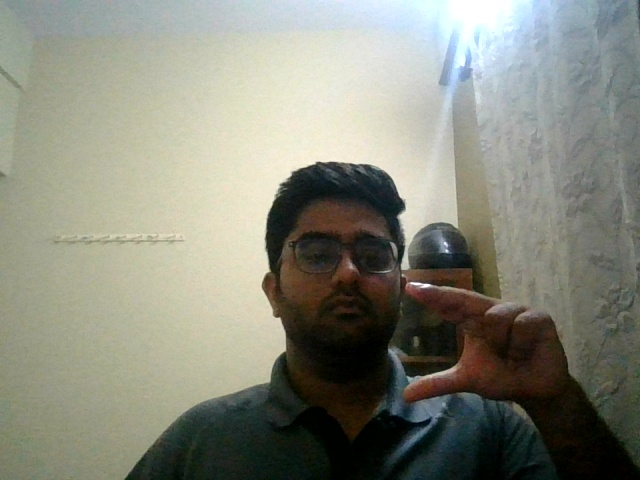No: (394, 271, 591, 431)
